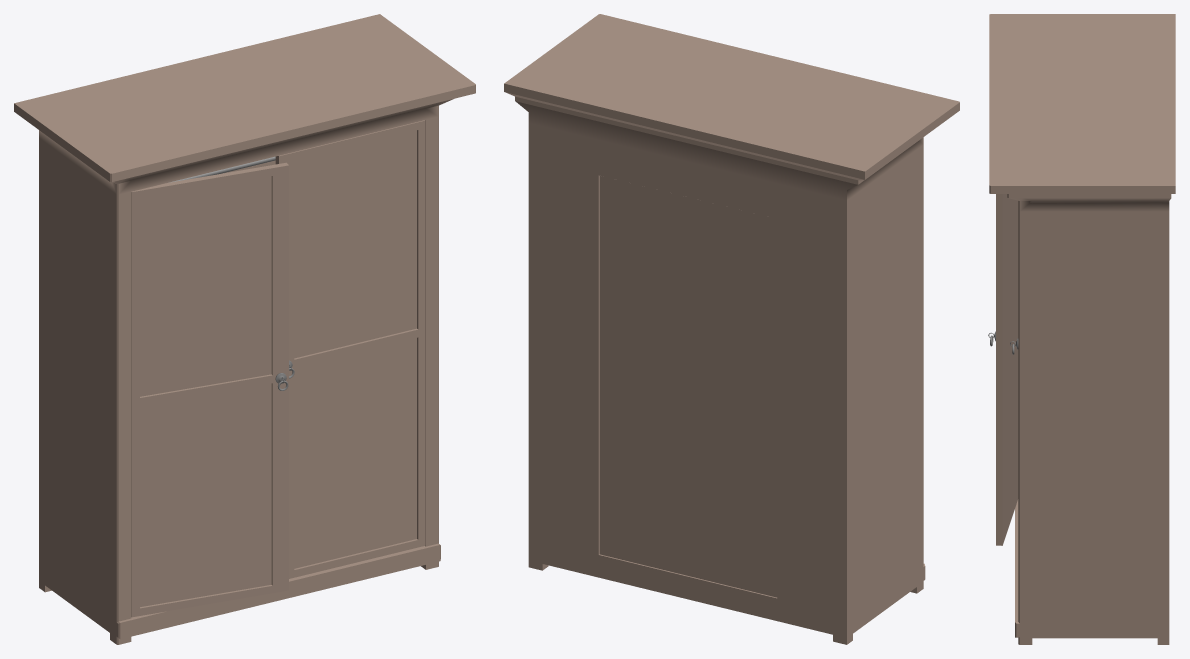
File: Wardrobe.fbx
3 views of the same model, side by side, from view 1: azimuth 30°, elevation 25°; view 2: azimuth 150°, elevation 25°; view 3: azimuth 270°, elevation 25° (orthographic). The views are drawn at different scales.
Parts seen in each view (by area): view 1: Wardrobe, Wardrobe_Door_Left1, Wardrobe_Door_Right1; view 2: Wardrobe, pCube3; view 3: Wardrobe, Wardrobe_Door_Left1.
Boxes of the visible parts, box(x1,y1,x2,y2) form: Wardrobe: box(14, 14, 475, 644); Wardrobe_Door_Left1: box(131, 162, 288, 617); Wardrobe_Door_Right1: box(275, 120, 425, 578); Wardrobe: box(504, 14, 959, 644); pCube3: box(600, 175, 777, 597); Wardrobe: box(989, 14, 1175, 644); Wardrobe_Door_Left1: box(988, 194, 1018, 545).
Bounding box in the file's own units: 181 × 230 × 83.18.
